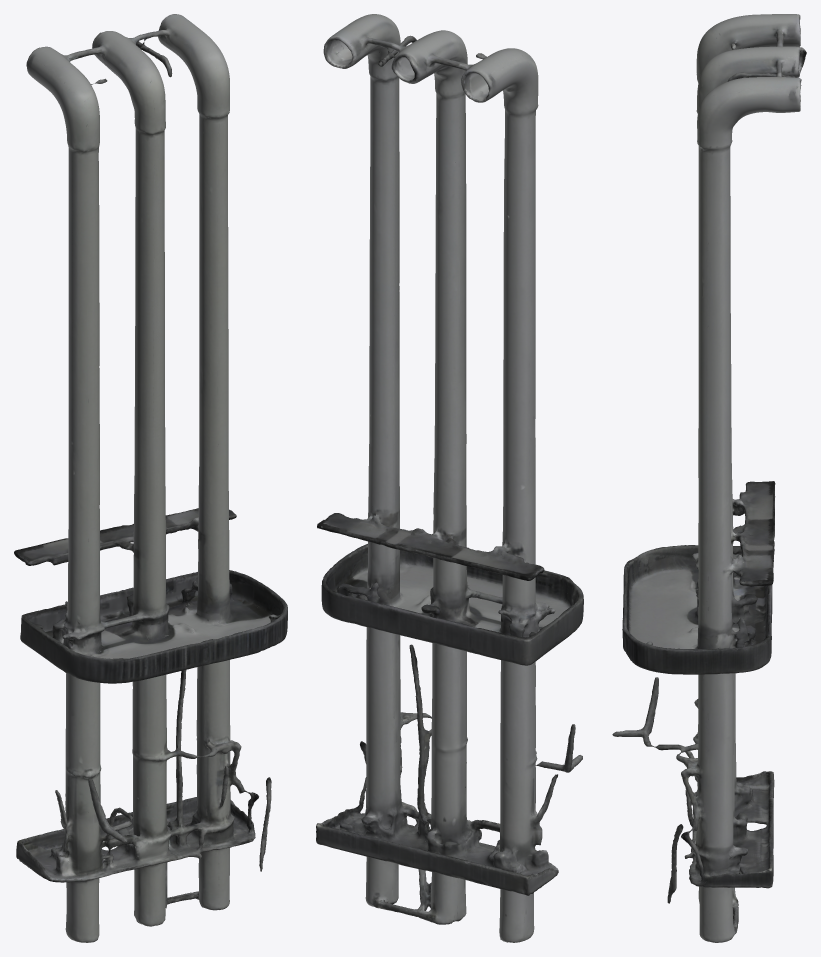
File: Meshy_AI_Three_Vertical_Pipes_0323202744_texture.glb
3 views of the same model, side by side, from view 1: azimuth 30°, elevation 25°; view 2: azimuth 150°, elevation 25°; view 3: azimuth 270°, elevation 25° (orthographic). The views are drawn at different scales.
Size of the model in its own units: 0.5331 by 2 by 0.4104.
1 material, 1 textured.
